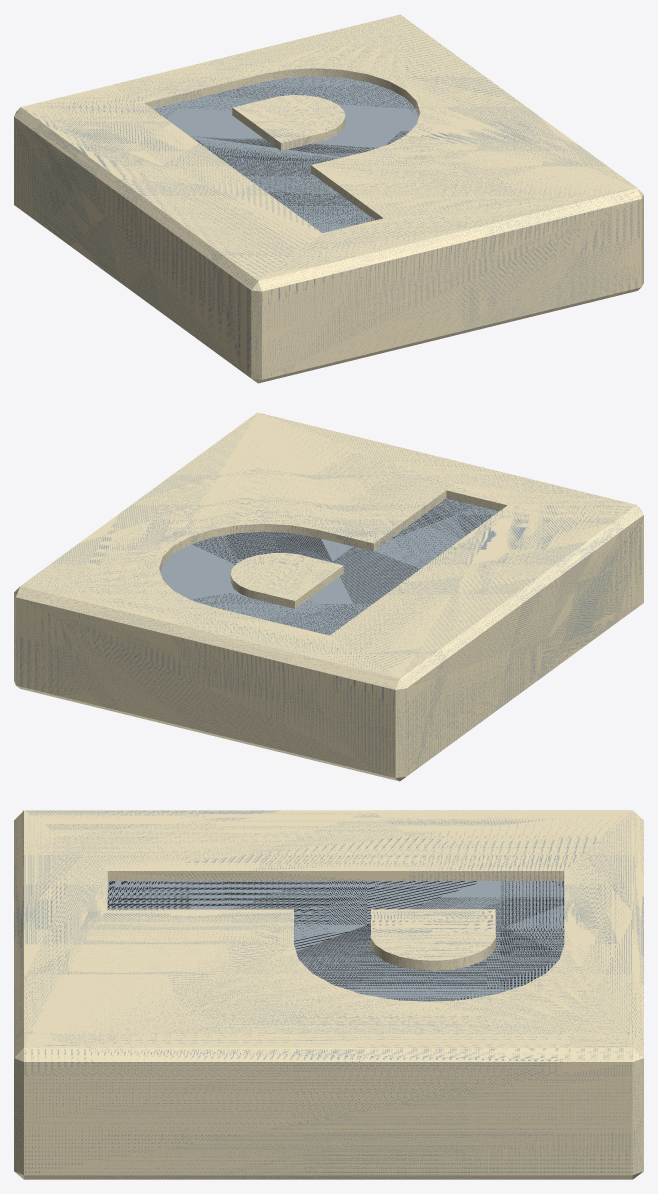
Rendered from Boardgame_Anagram_Tile_P.fbx.
3 renders of one model, top to bottom at view 1: azimuth 30°, elevation 25°; view 2: azimuth 150°, elevation 25°; view 3: azimuth 270°, elevation 25°, orthographic. The views are drawn at different scales.
Visible parts, largest first — view 1: Model; view 2: Model; view 3: Model.
Boxes of the visible parts, left/top/right/bottom form: Model: left=14, top=14, right=643, bottom=383; Model: left=14, top=412, right=643, bottom=781; Model: left=14, top=810, right=643, bottom=1179.
Size of the model in its own units: 195 by 48.83 by 212.
